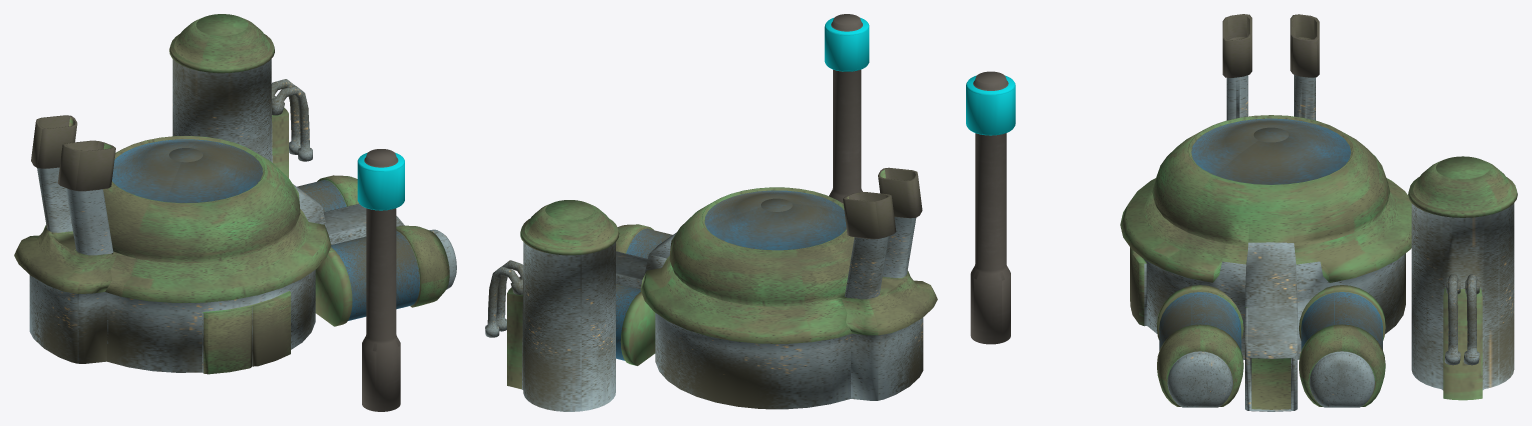
File: farm_01.glb
3 renders of one model, left to right at view 1: azimuth 30°, elevation 25°; view 2: azimuth 150°, elevation 25°; view 3: azimuth 270°, elevation 25°, orthographic. The views are drawn at different scales.
Parts seen in each view (by area): view 1: Farm_01; view 2: Farm_01; view 3: Farm_01.
Boxes of the visible parts, bbox=[...] form: Farm_01: bbox=[14, 14, 456, 411]; Farm_01: bbox=[485, 14, 937, 411]; Farm_01: bbox=[966, 14, 1517, 411].
Size of the model in its own units: 16.49 by 10.28 by 19.93.
6 materials, 5 textured.
